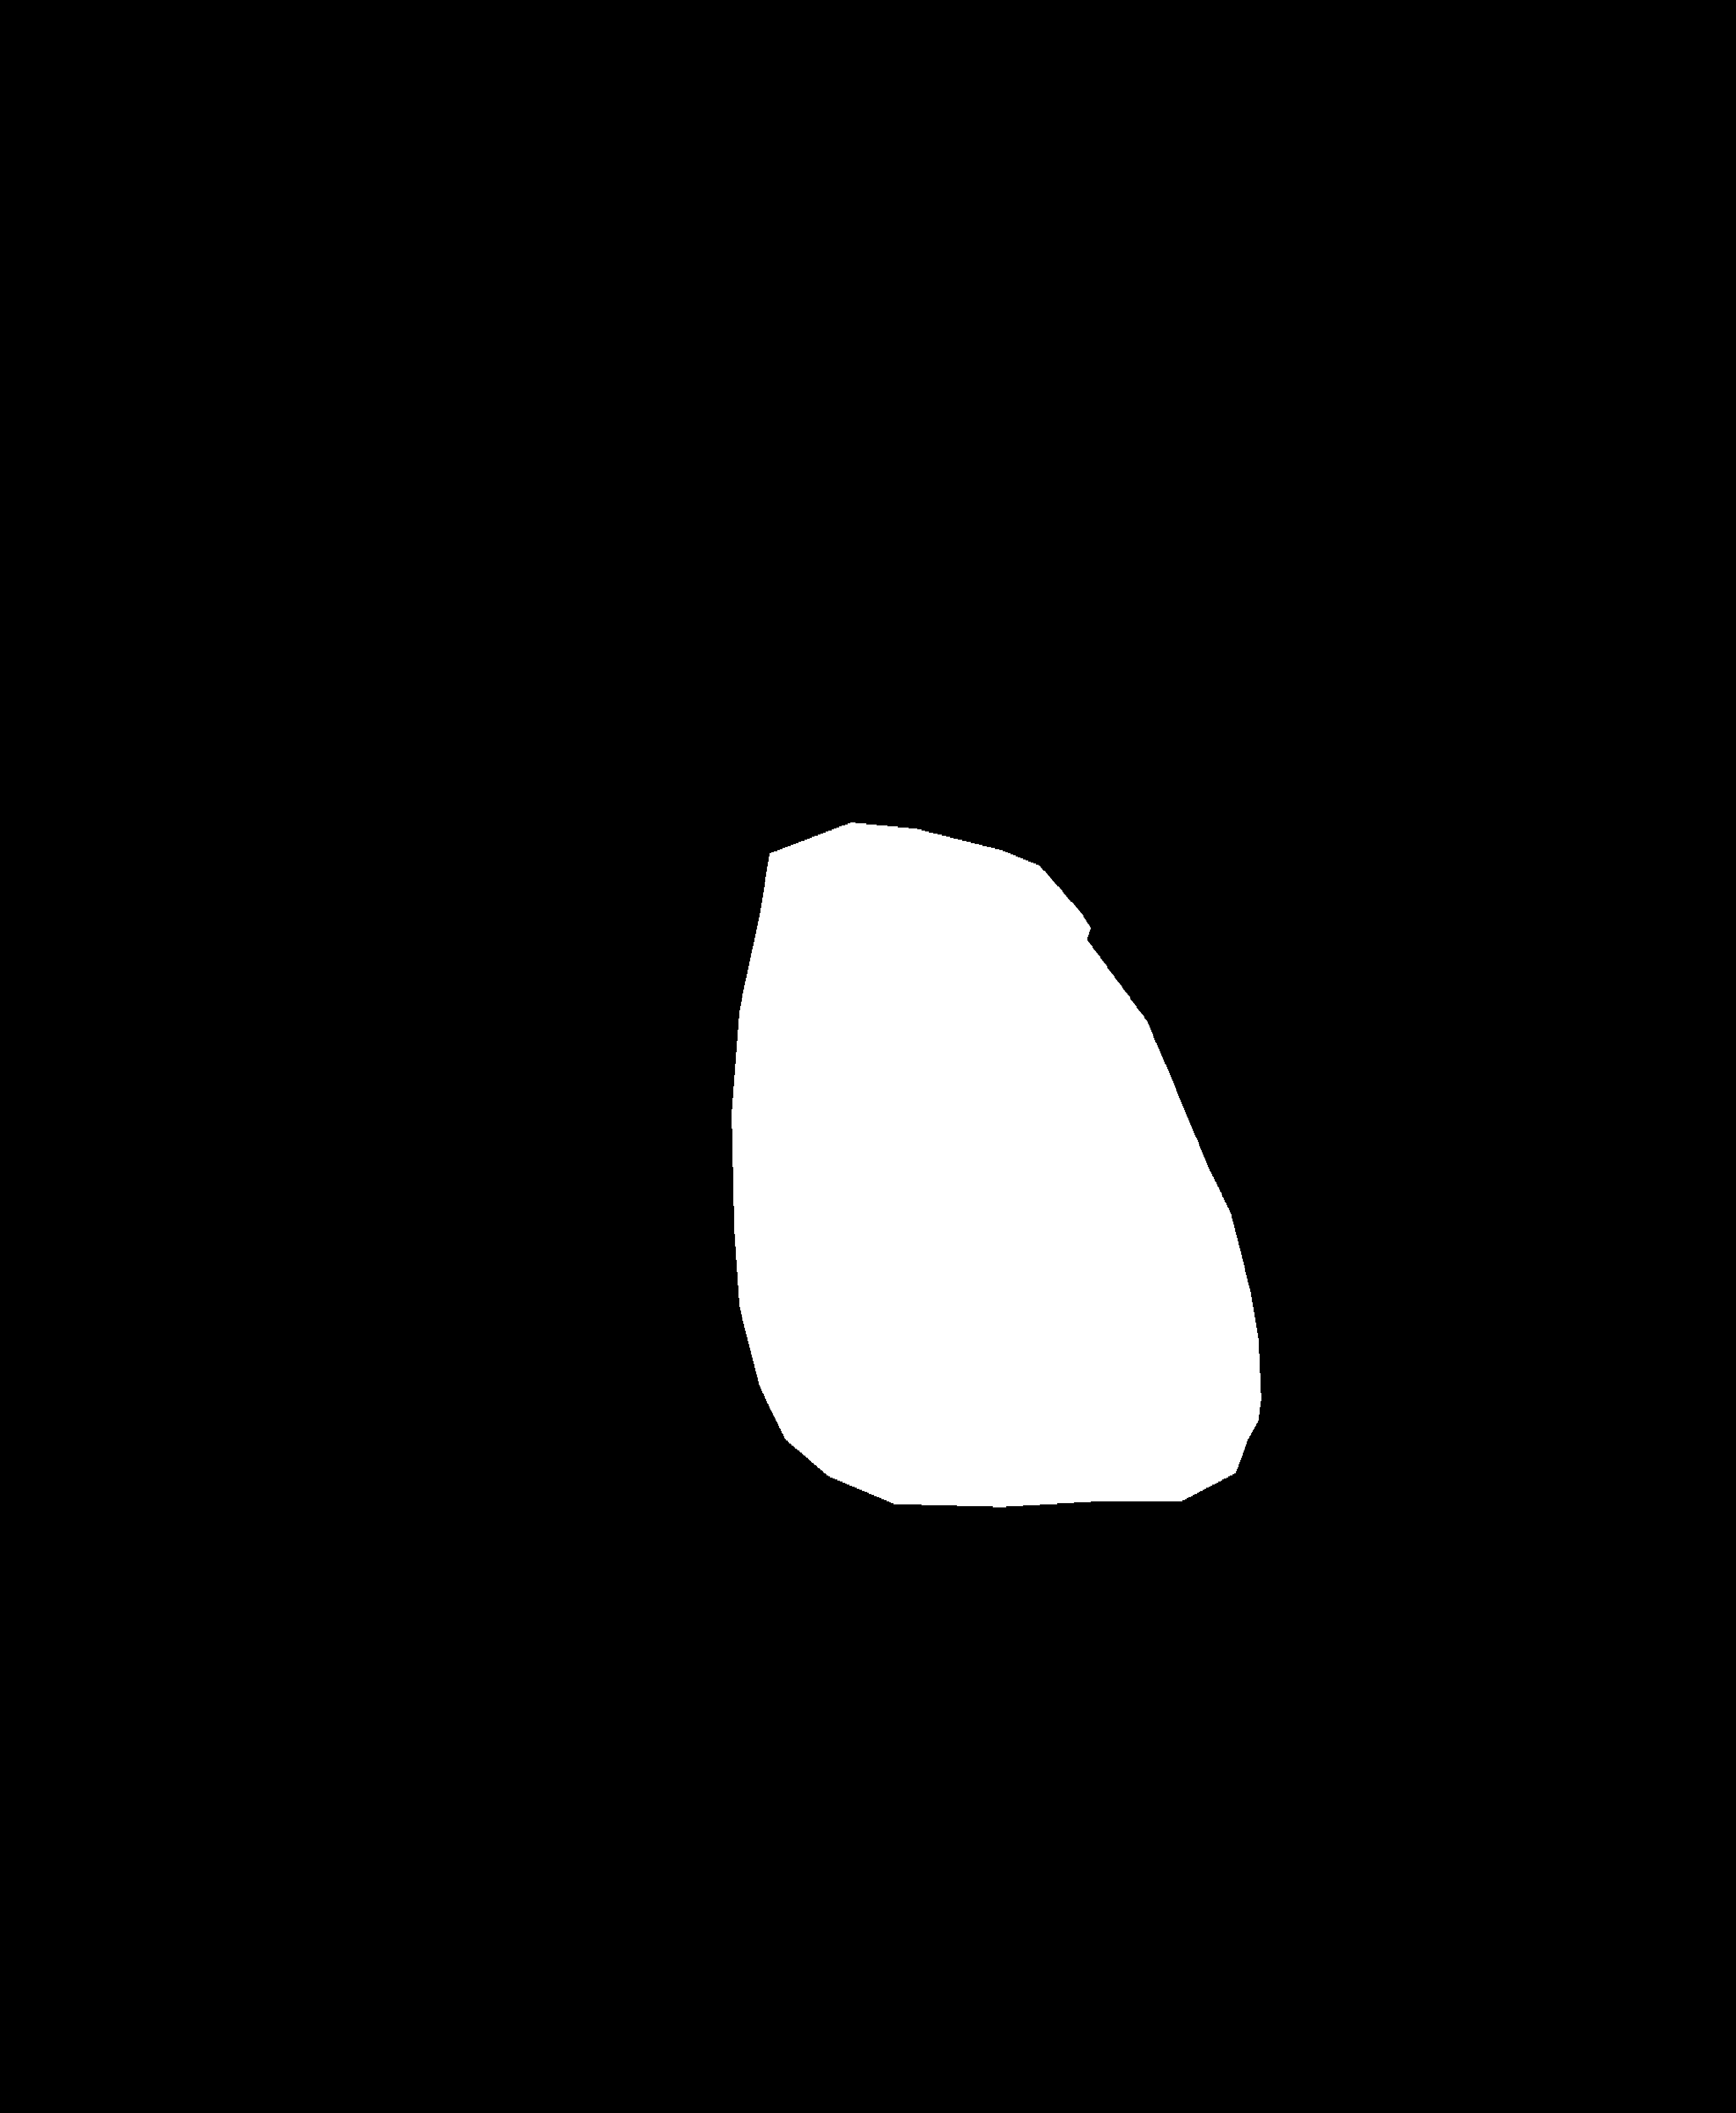heart: (732, 978, 1250, 1632)
left_lung: (223, 216, 836, 1644)
right_lung: (971, 172, 1578, 1781)
